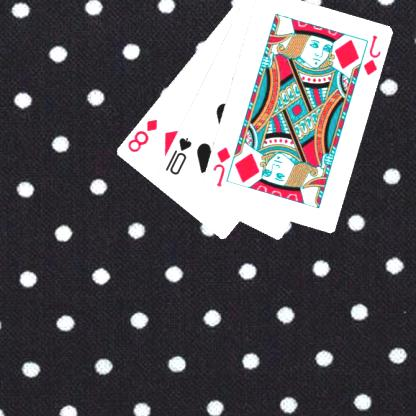10S: (164, 134, 195, 177)
8D: (126, 116, 161, 154)
JD: (362, 32, 384, 77), (212, 144, 233, 188)
